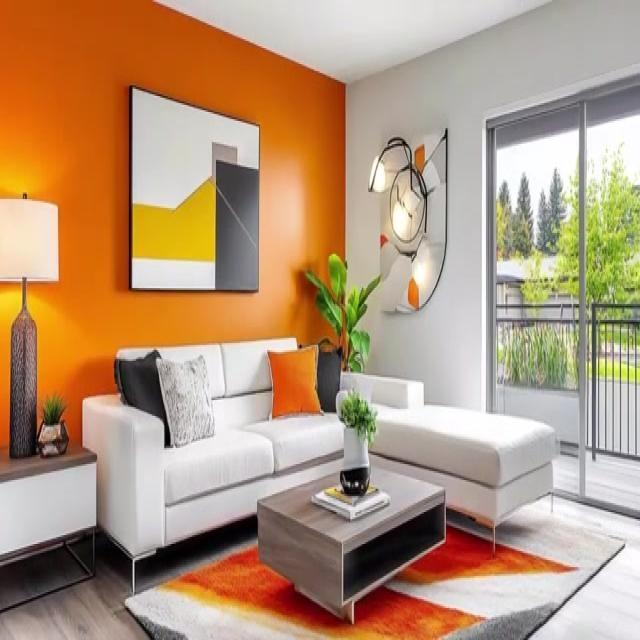obstacle: (79, 342, 557, 596), (256, 462, 446, 624), (0, 440, 97, 610)
